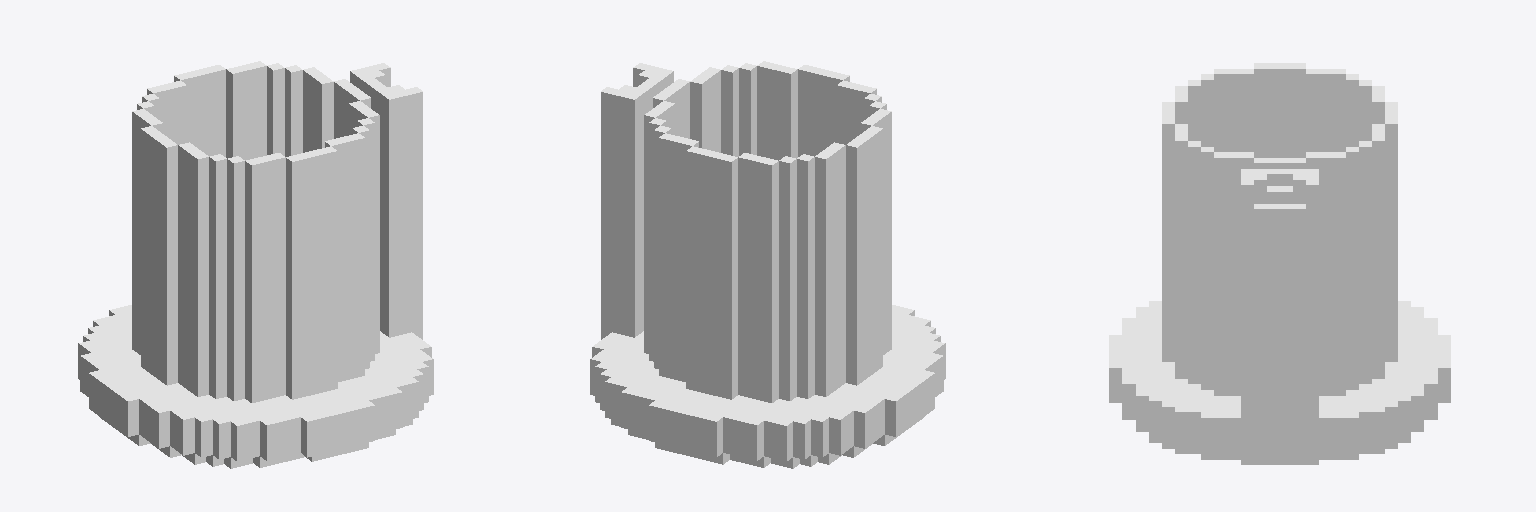
Rendered from ミキサー_うつわ.obj.
The picture shows the model from 3 angles: view 1: azimuth 30°, elevation 25°; view 2: azimuth 150°, elevation 25°; view 3: azimuth 270°, elevation 25°; orthographic projection.
Parts seen in each view (by area): view 1: object 1; view 2: object 1; view 3: object 1.
Part boxes in pixels (bbox=[...]): object 1: bbox=[78, 61, 433, 468]; object 1: bbox=[590, 61, 945, 468]; object 1: bbox=[1109, 63, 1450, 464].
Bounding box in the file's own units: 2.6 × 2.4 × 2.6.